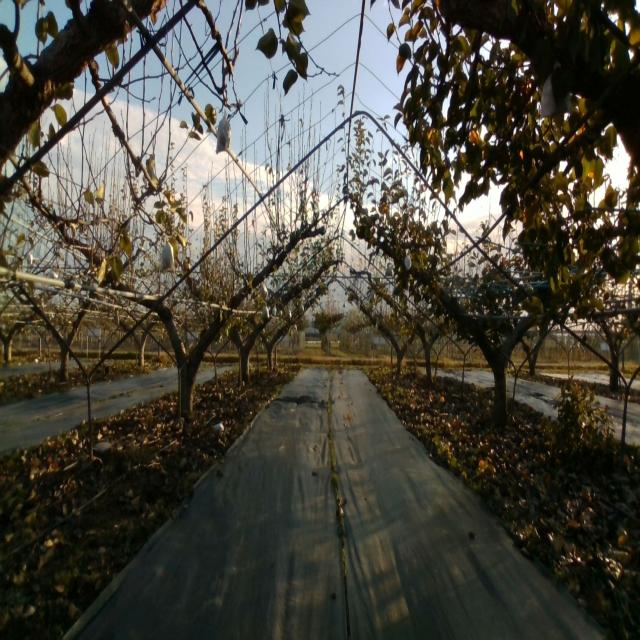pearbags: (215, 109, 231, 153), (159, 236, 175, 273)
